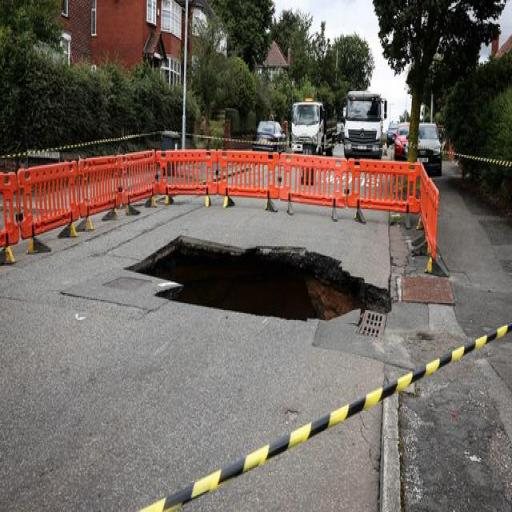Concentric_Crack: (130, 236, 390, 320)
